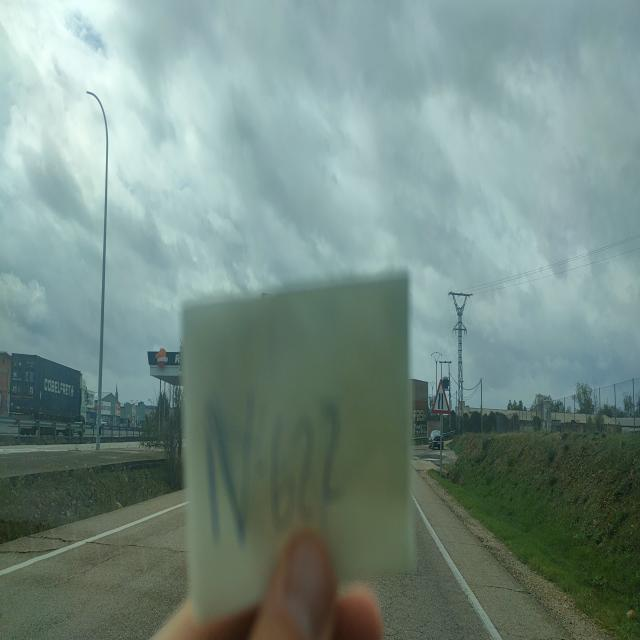Poth-hole: (27, 525, 188, 559), (417, 578, 530, 600), (0, 542, 69, 562), (439, 592, 463, 639)
